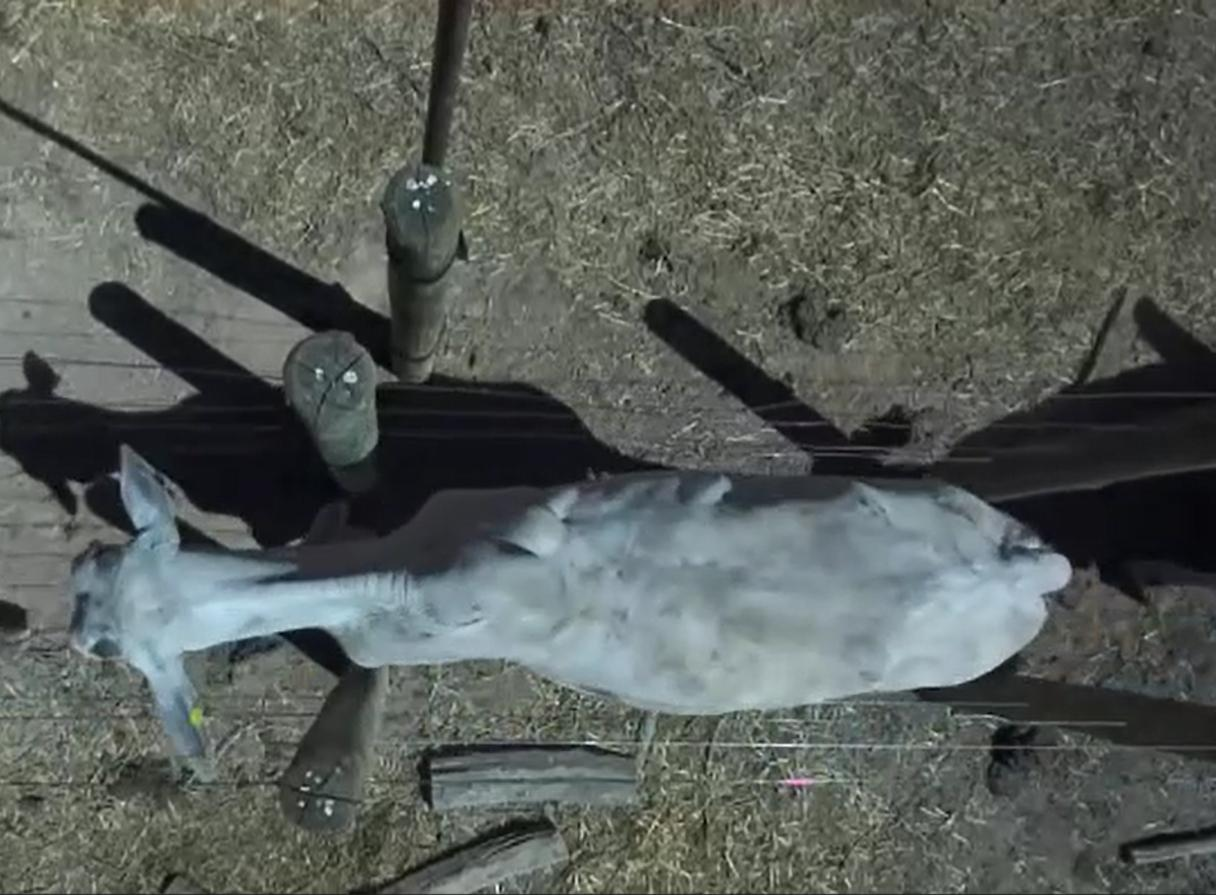cattle: (60, 430, 1083, 793)
